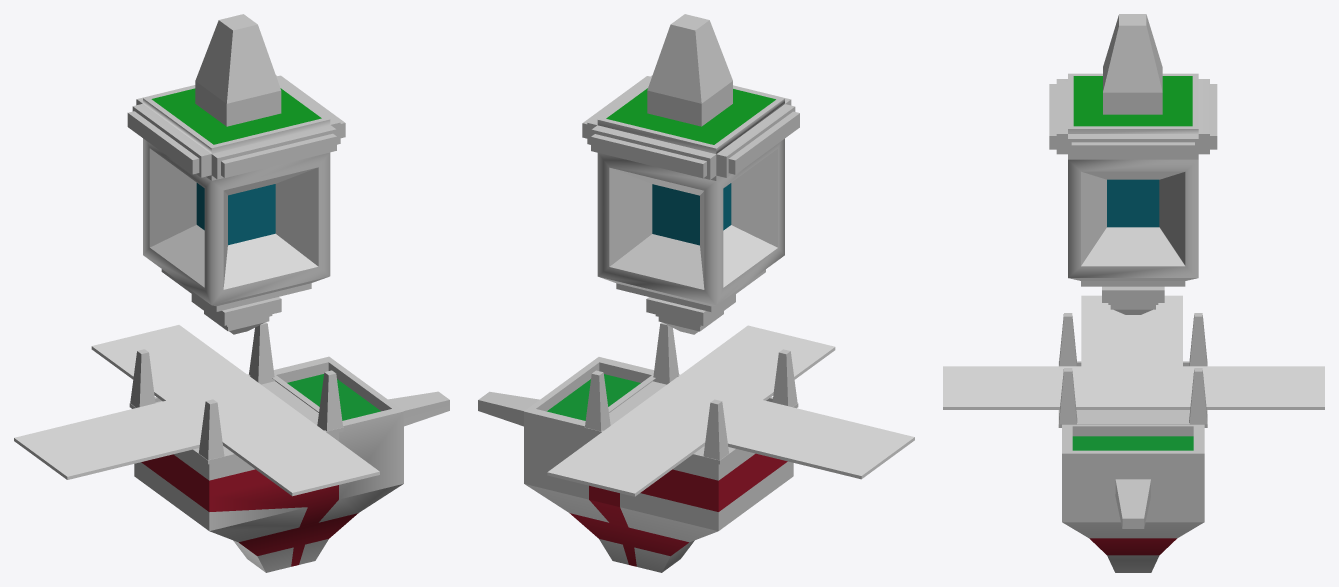
File: Module3_color.fbx
3 views of the same model, side by side, from view 1: azimuth 30°, elevation 25°; view 2: azimuth 150°, elevation 25°; view 3: azimuth 270°, elevation 25° (orthographic). The views are drawn at different scales.
Visible parts, largest first — view 1: Cube.001, Cube, Cube.002; view 2: Cube.001, Cube, Cube.002; view 3: Cube.001, Cube, Cube.002.
Boxes of the visible parts, <box> form: Cube.001: <box>127,14,345,334</box>; Cube: <box>129,322,449,572</box>; Cube.002: <box>14,325,379,496</box>; Cube.001: <box>582,14,799,334</box>; Cube: <box>478,322,798,572</box>; Cube.002: <box>547,325,914,496</box>; Cube.001: <box>1049,14,1217,314</box>; Cube: <box>1058,313,1207,572</box>; Cube.002: <box>943,295,1324,409</box>.
Size of the model in its own units: 232 by 302 by 200.
